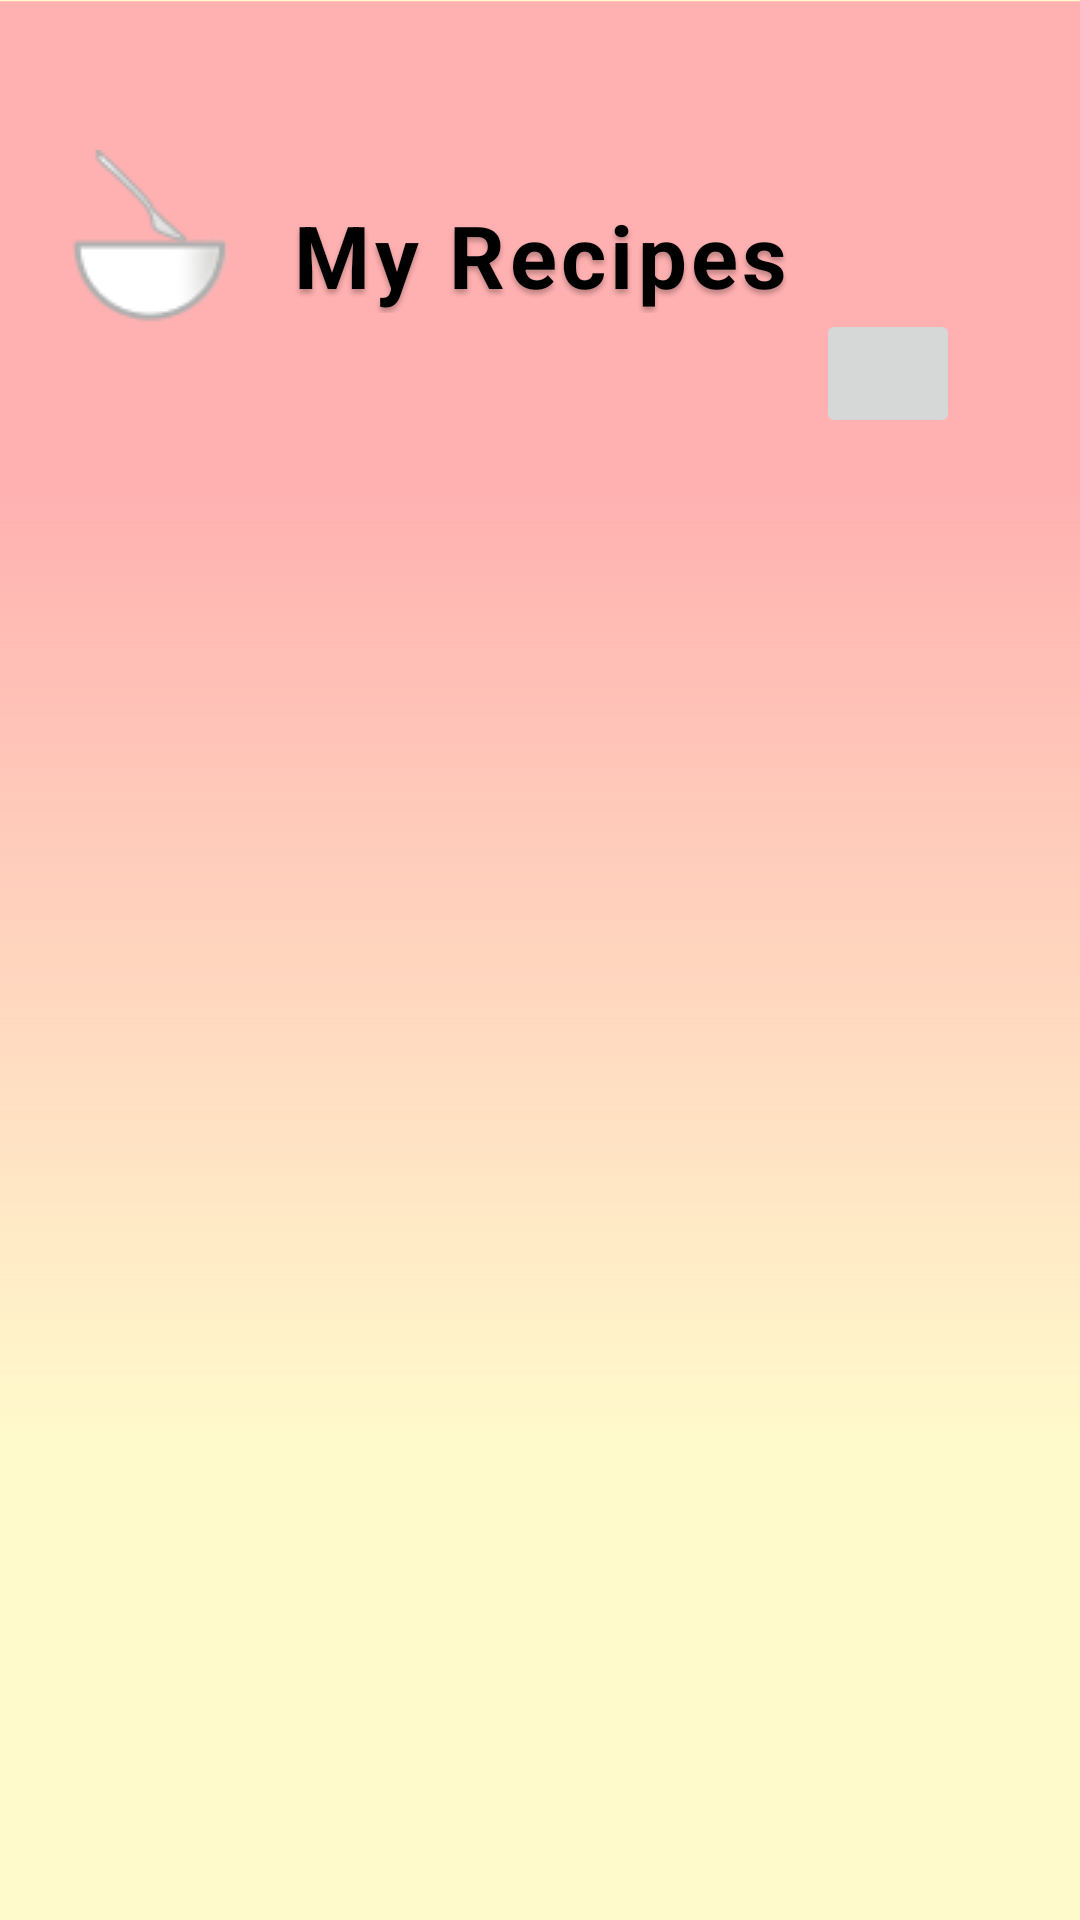

Screen size 1080w x 1920h. Icon name, then its box in pixels as box=[x1, y1, x2, y2]:
recipe page bowl: box=[74, 150, 226, 321]
